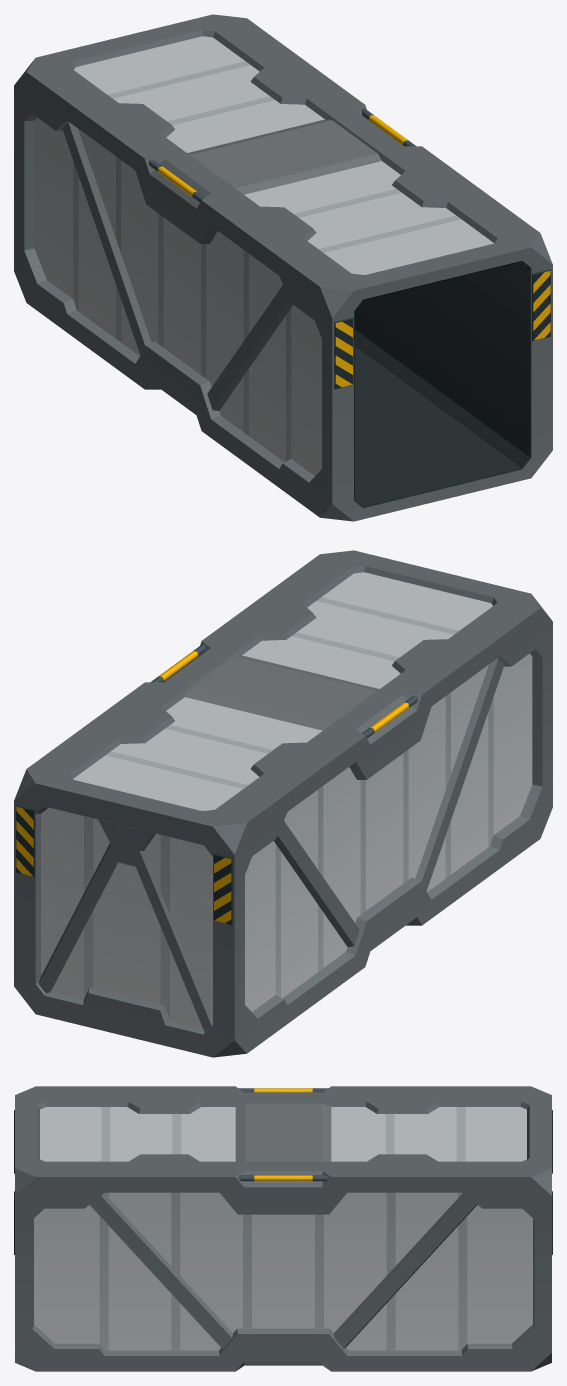
Rendered from Container_type_A_004.fbx.
3 views of the same model, one above another, from view 1: azimuth 30°, elevation 25°; view 2: azimuth 150°, elevation 25°; view 3: azimuth 270°, elevation 25° (orthographic). The views are drawn at different scales.
Parts seen in each view (by area): view 1: Container_type_A_004; view 2: Container_type_A_004; view 3: Container_type_A_004.
Part boxes in pixels (x1=…): Container_type_A_004: x1=14, y1=14, x2=552, y2=521; Container_type_A_004: x1=14, y1=550, x2=552, y2=1057; Container_type_A_004: x1=14, y1=1086, x2=552, y2=1371.
Size of the model in its own units: 240 by 602 by 240.
